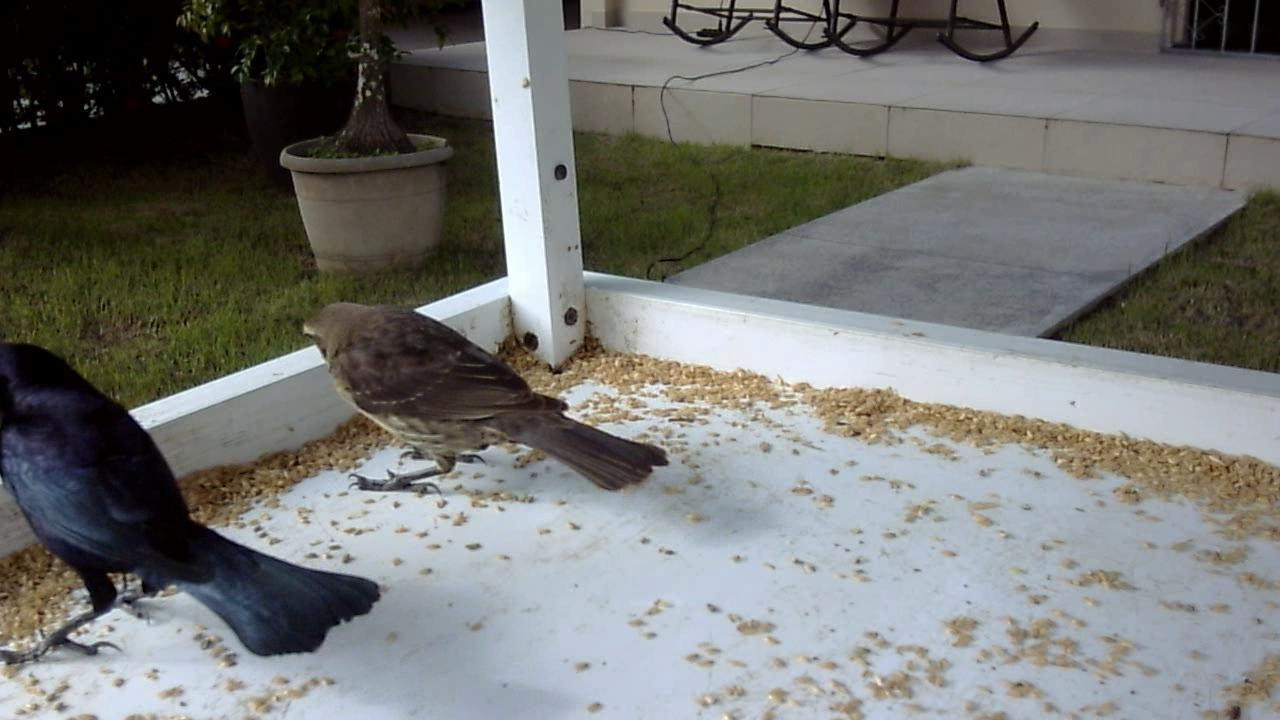chupim: (1, 330, 383, 680), (293, 285, 673, 505)
